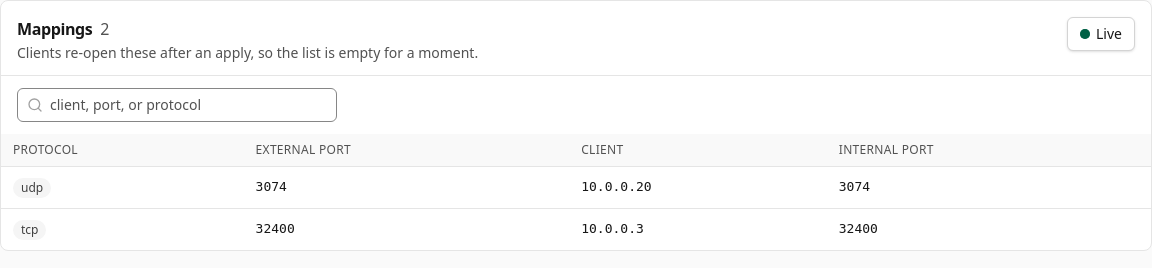
Test: MappingsTab › searches what a row shows
Type "32400" into the search field with placeholder "client, port, or protocol". click: x=177, y=105
box: [17,88,337,122]
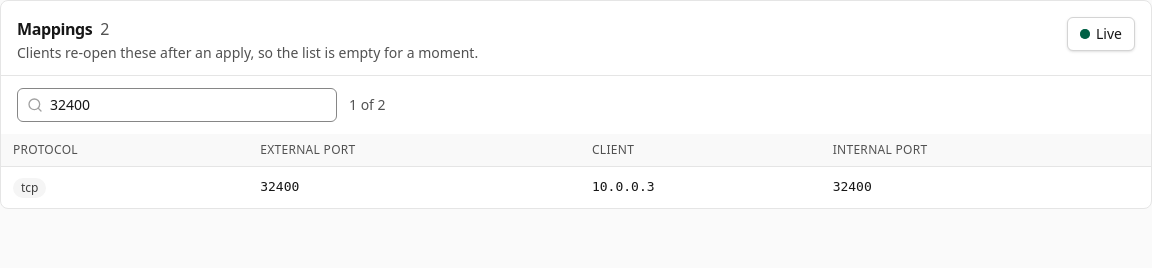
Expected: the text "1 of 2" is shown, [349,95,386,115]
Replace the text in the search field with "10.0.0.99". click: x=177, y=105
box: [17,88,337,122]
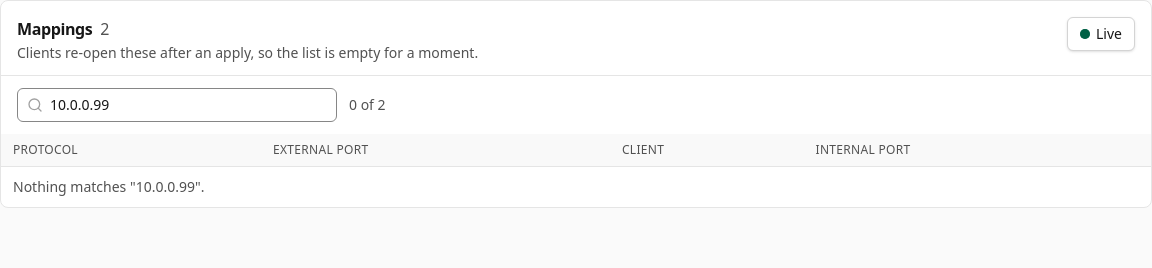
Expected: the text "Nothing matches \"10.0.0.99\"." is shown, [1,166,1151,207]
